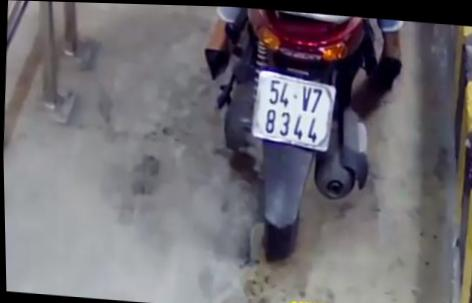LP: (248, 65, 338, 150)
